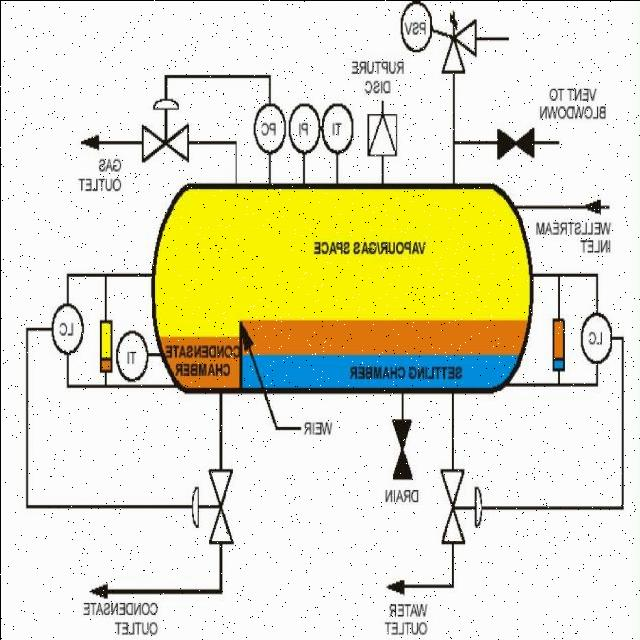Bleeder Valve: (379, 408, 426, 489)
Closed Gate Valve: (484, 114, 538, 174)
PSV: (436, 8, 486, 84)
Pneumatic-Diaphragm Gate Valve: (182, 450, 256, 564), (434, 457, 497, 557), (134, 88, 200, 171)
